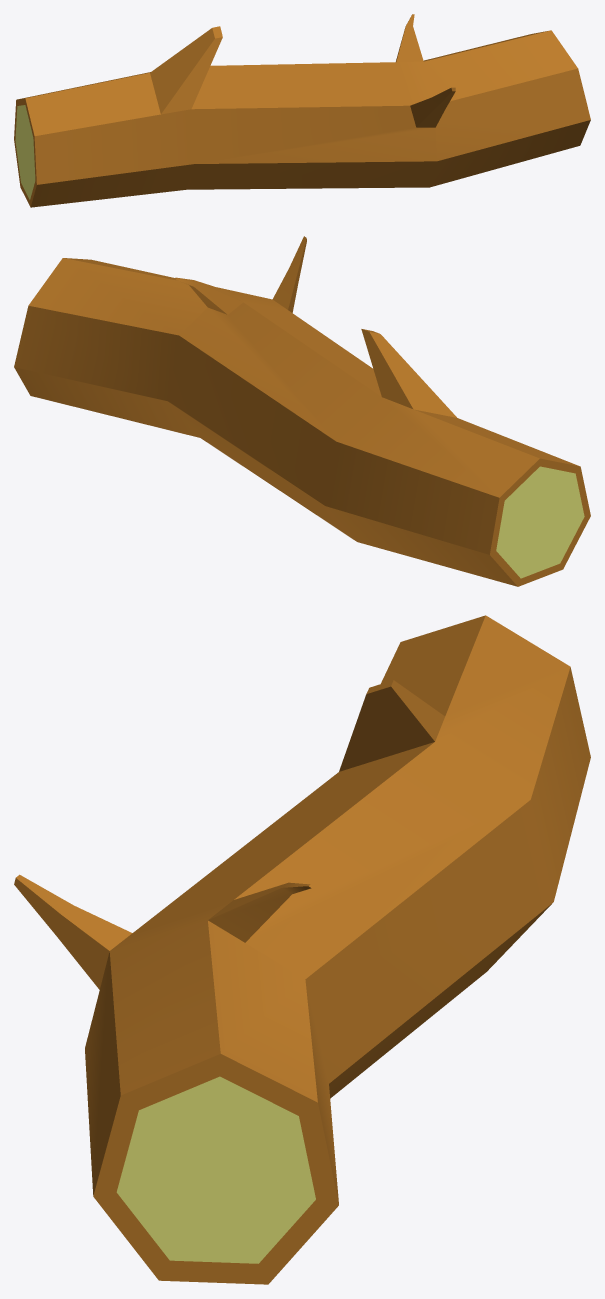
Rendered from Rod.fbx.
3 renders of one model, top to bottom at view 1: azimuth 30°, elevation 25°; view 2: azimuth 150°, elevation 25°; view 3: azimuth 270°, elevation 25°, orthographic. The views are drawn at different scales.
Visible parts, largest first — view 1: pCylinder12; view 2: pCylinder12; view 3: pCylinder12.
Part boxes in pixels (box(x1,y1,x2,y2)): pCylinder12: box(14, 14, 590, 207); pCylinder12: box(14, 236, 590, 586); pCylinder12: box(14, 615, 590, 1284).
Bounding box in the file's own units: 37.61 × 11.33 × 19.25.
